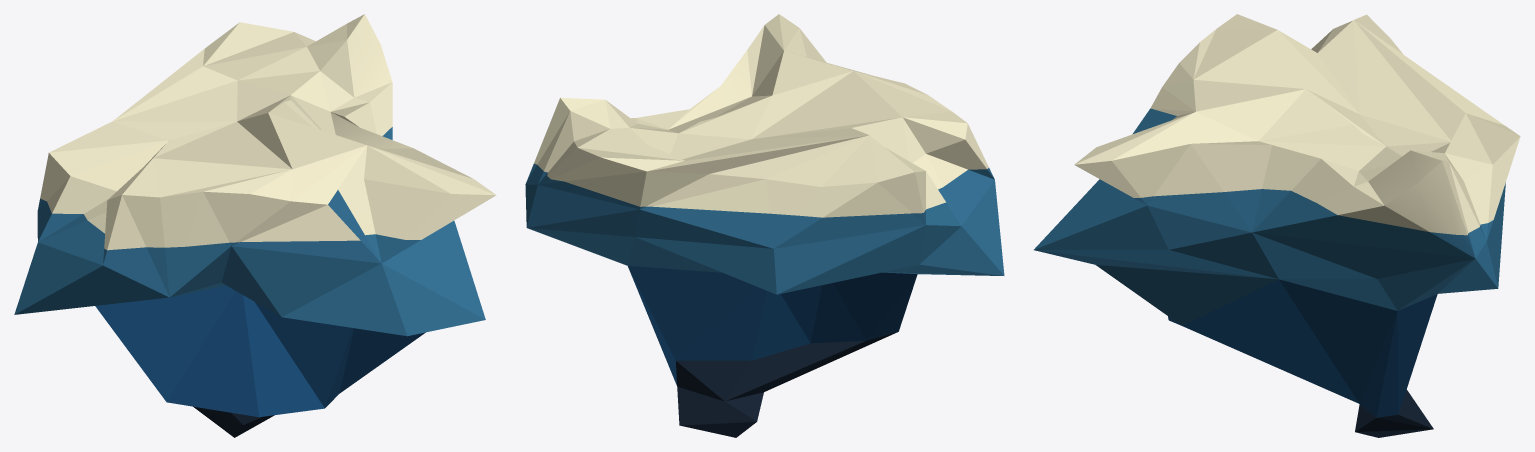
Rendered from rock021.FBX.
3 views of the same model, side by side, from view 1: azimuth 30°, elevation 25°; view 2: azimuth 150°, elevation 25°; view 3: azimuth 270°, elevation 25° (orthographic). The views are drawn at different scales.
Visible parts, largest first — view 1: rock_021; view 2: rock_021; view 3: rock_021.
Part boxes in pixels (x1,y1,x2,y2): rock_021: [14, 14, 496, 437]; rock_021: [525, 14, 1004, 437]; rock_021: [1034, 14, 1520, 437].
Size of the model in its own units: 16.23 by 12.64 by 15.72.
